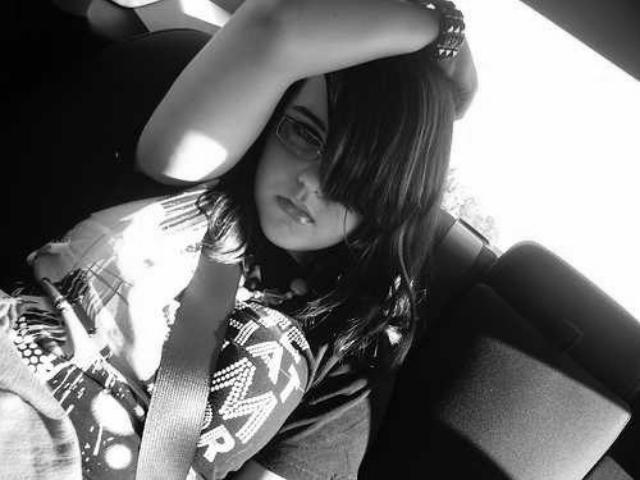Seatbelt: (132, 230, 248, 480)
